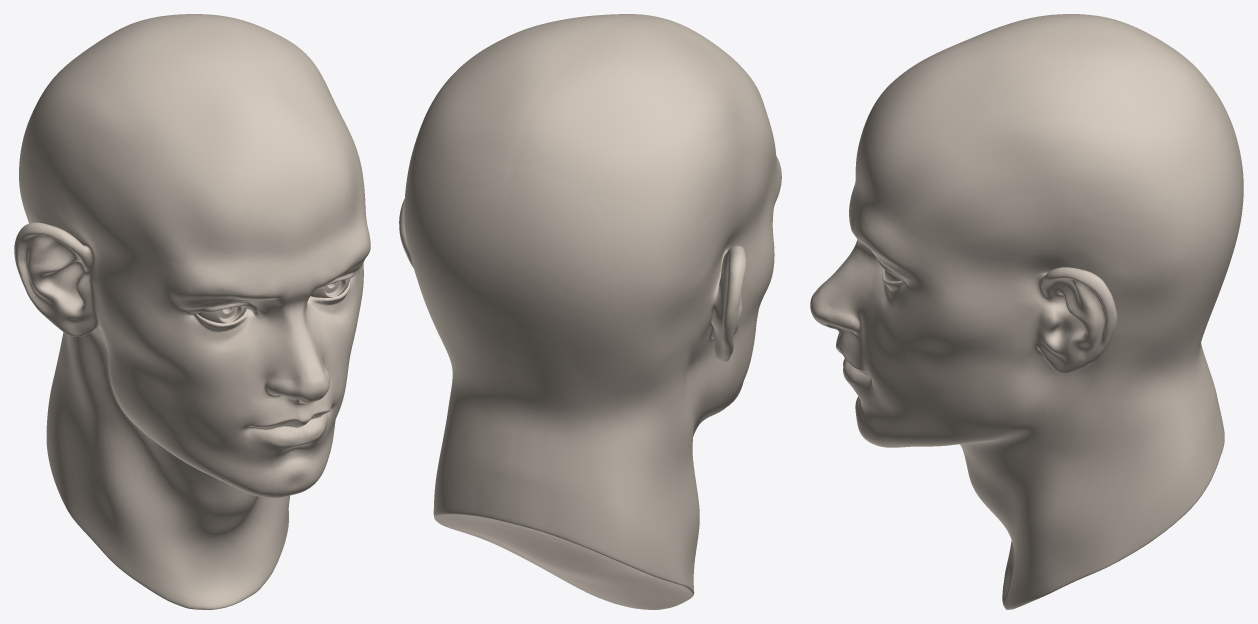
Rendered from head.min.glb.
The picture shows the model from 3 angles, left to right: view 1: azimuth 30°, elevation 25°; view 2: azimuth 150°, elevation 25°; view 3: azimuth 270°, elevation 25°; orthographic projection. The views are drawn at different scales.
Visible parts, largest first — view 1: head; view 2: head; view 3: head.
Boxes of the visible parts, x1,y1,x2,y2 form: head: (14, 14, 370, 609); head: (399, 14, 781, 609); head: (810, 14, 1243, 609).
Size of the model in its own units: 7.6 by 12.66 by 8.8.
